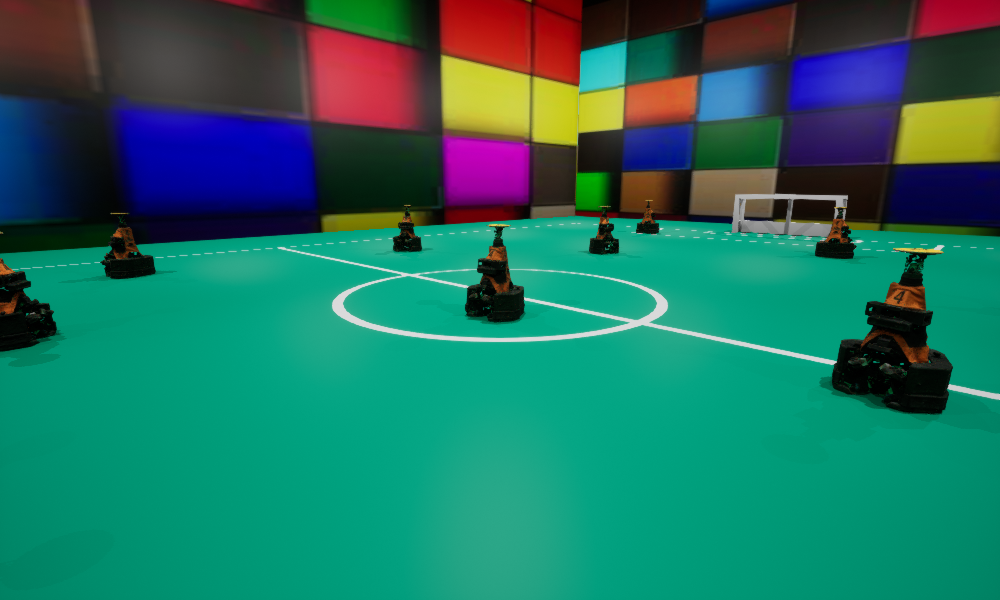0 orange robot TechUnited: (832, 248, 952, 412), (0, 232, 56, 351), (465, 224, 524, 321), (100, 213, 155, 277), (815, 207, 856, 258), (589, 206, 618, 254), (393, 205, 421, 251), (636, 200, 658, 233)
